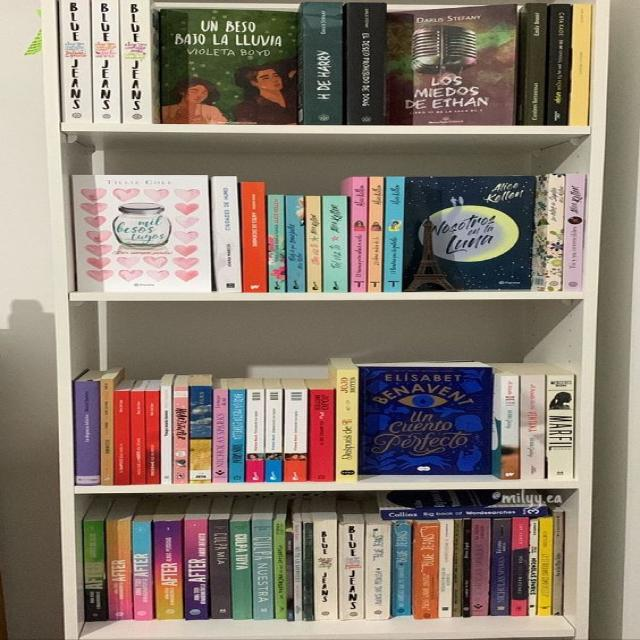book: (347, 2, 389, 125), (302, 3, 343, 124), (120, 0, 153, 123), (61, 0, 93, 122), (211, 176, 243, 292), (90, 0, 119, 122), (240, 181, 267, 292), (522, 3, 546, 126), (546, 375, 574, 479), (568, 3, 592, 124), (155, 520, 184, 620), (74, 382, 101, 486), (105, 520, 133, 620), (563, 174, 586, 291), (548, 4, 570, 125), (520, 376, 546, 478), (383, 177, 406, 292), (335, 369, 358, 481), (322, 196, 348, 293), (381, 506, 549, 521), (339, 523, 364, 620), (314, 520, 338, 620), (546, 173, 566, 291), (185, 518, 208, 620), (83, 520, 106, 622), (309, 389, 334, 481), (209, 519, 232, 619), (229, 520, 252, 620), (366, 524, 390, 619), (189, 386, 212, 482), (416, 523, 439, 619), (132, 521, 153, 621), (350, 177, 368, 293), (499, 376, 519, 478), (285, 195, 306, 292), (470, 519, 491, 616), (253, 520, 273, 620), (285, 390, 307, 480), (267, 194, 287, 292), (491, 519, 511, 616), (392, 520, 412, 616), (368, 176, 384, 292), (246, 389, 264, 482), (113, 391, 131, 484), (305, 196, 322, 292), (265, 389, 282, 482), (173, 386, 189, 484), (512, 518, 527, 615), (538, 519, 553, 615), (229, 390, 244, 482), (439, 520, 453, 617), (146, 391, 160, 484), (214, 390, 228, 482), (131, 392, 145, 484), (101, 379, 113, 485), (553, 511, 565, 615), (274, 521, 286, 619), (303, 522, 314, 620), (161, 386, 171, 484), (529, 520, 539, 615), (293, 522, 302, 621), (453, 519, 462, 617), (464, 519, 471, 617)
